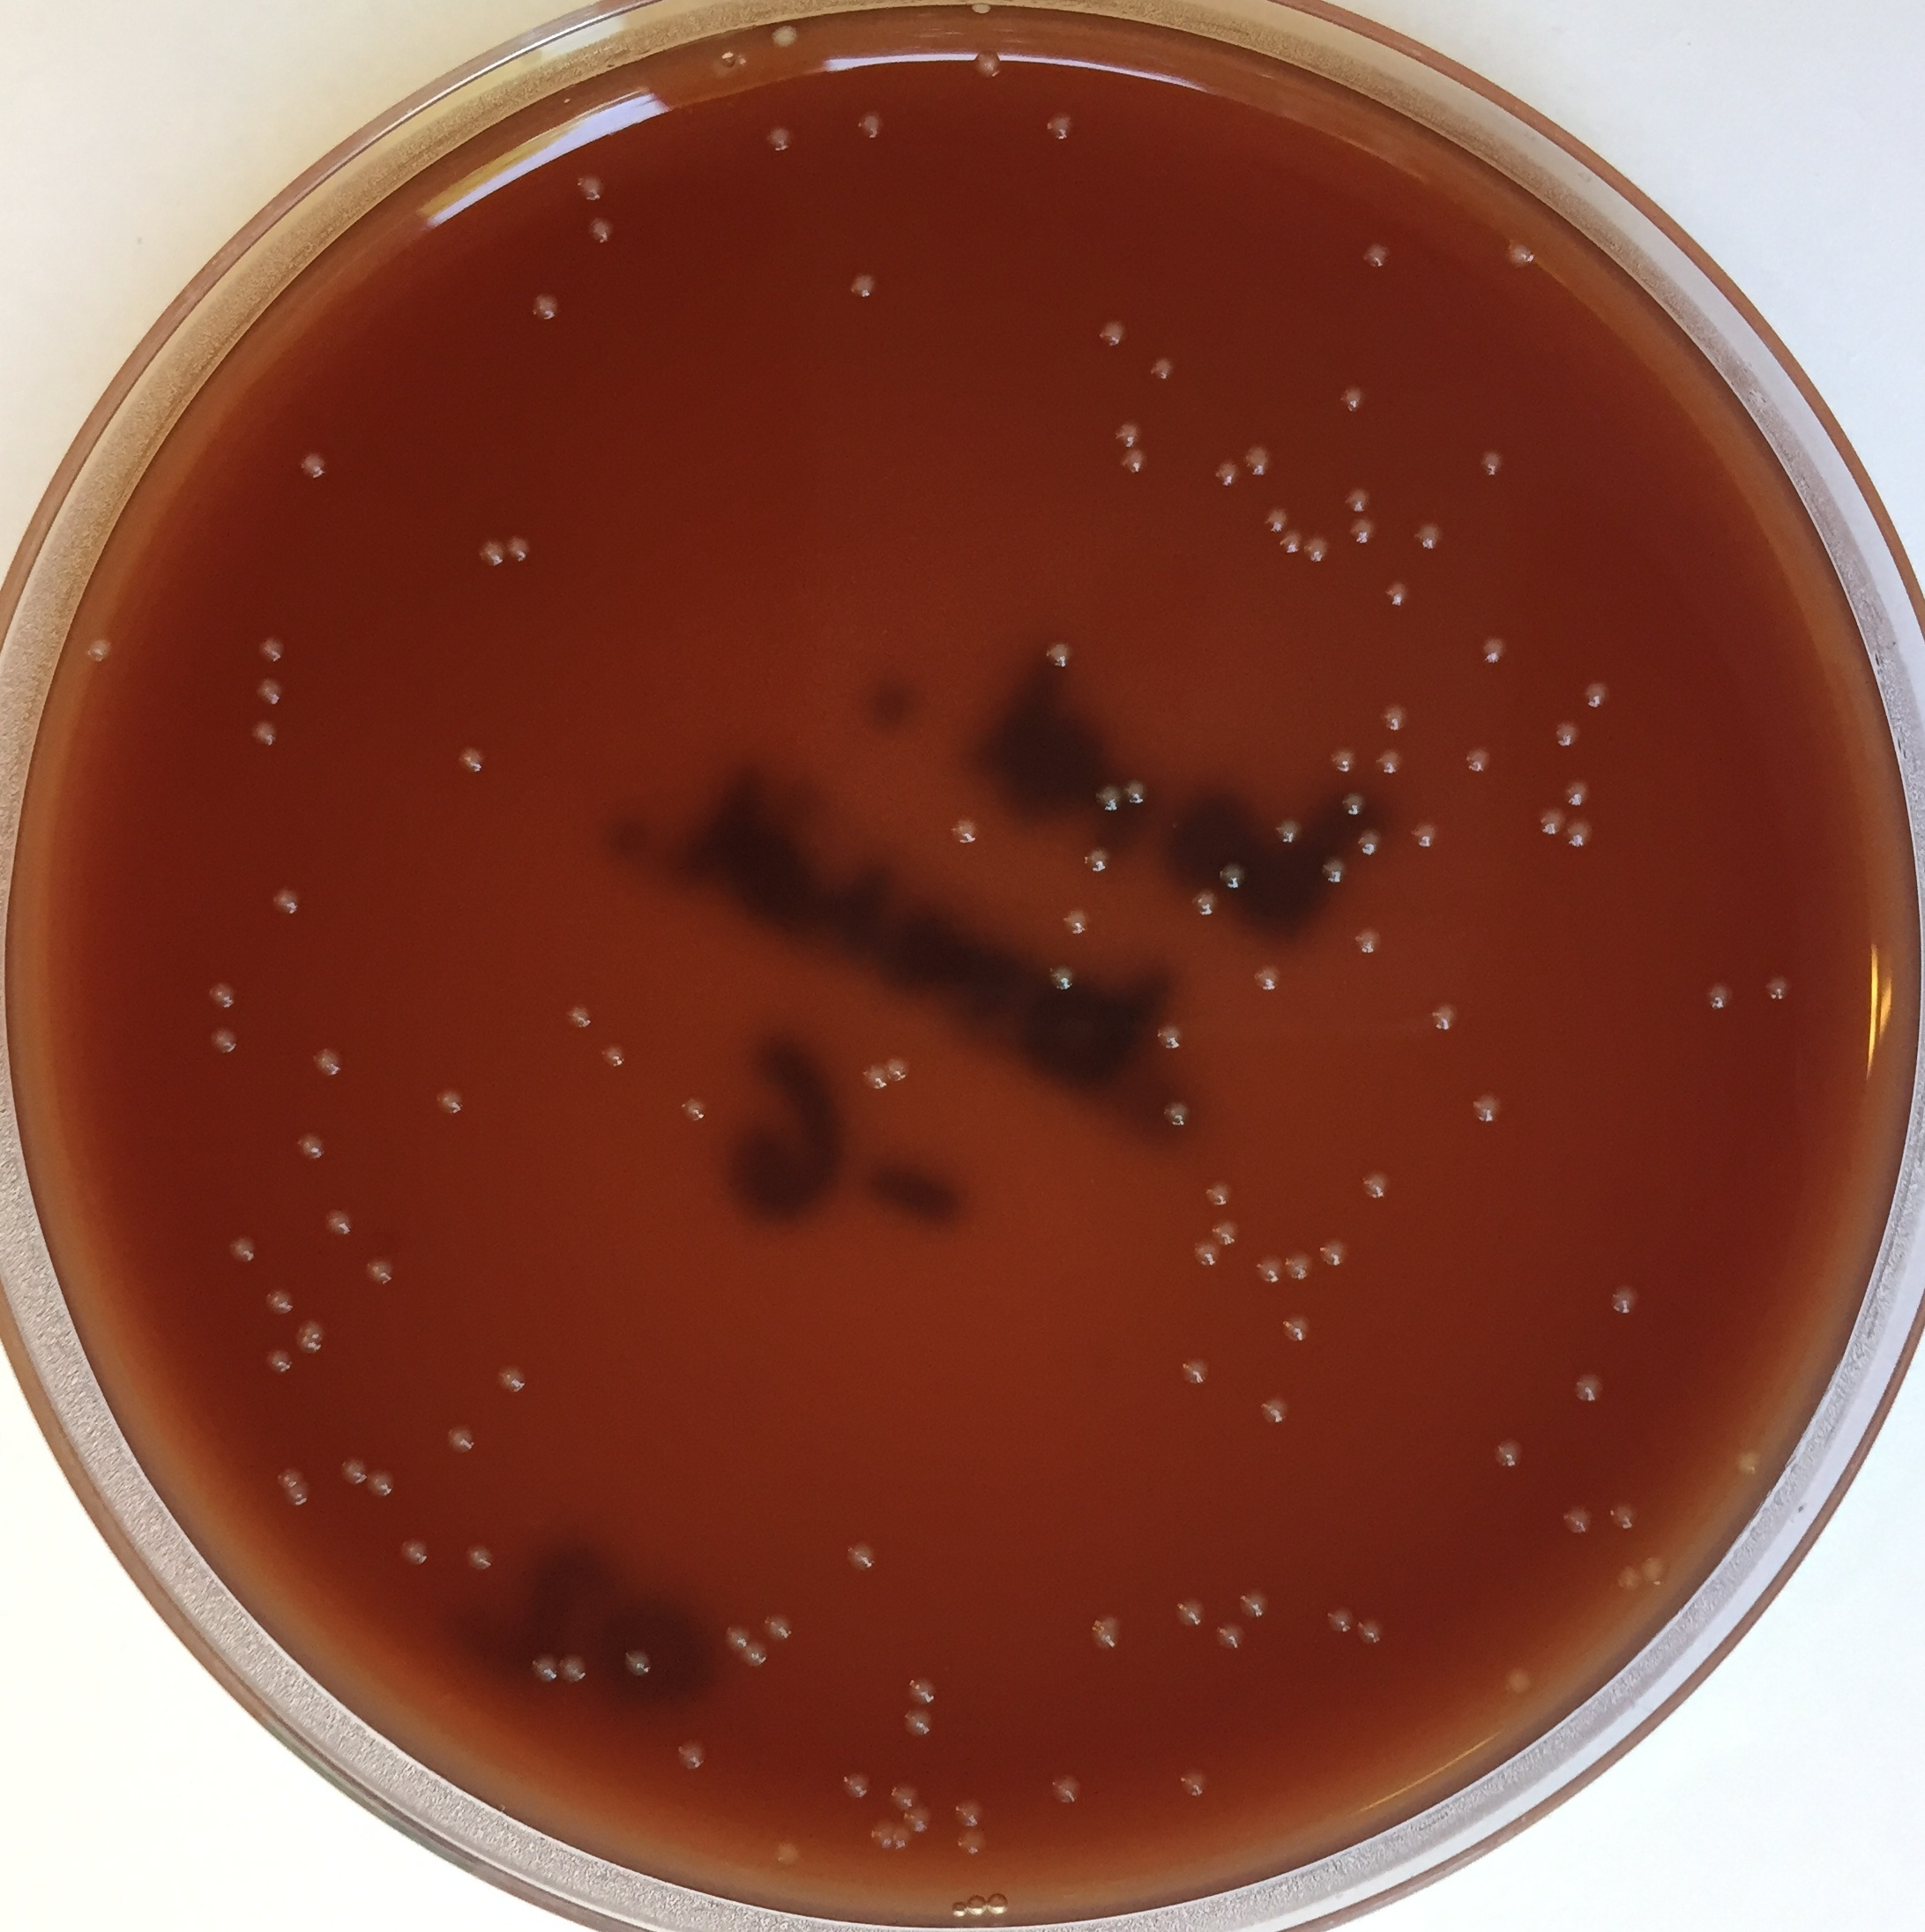sp06: (1486, 229, 1558, 291), (1483, 1650, 1542, 1708), (1477, 1424, 1528, 1488), (1560, 1363, 1618, 1417), (1460, 1086, 1520, 1139), (1204, 1618, 1259, 1671), (940, 807, 991, 862), (1419, 996, 1475, 1045), (1072, 1604, 1121, 1661), (1601, 1482, 1643, 1546), (1236, 432, 1282, 488), (1601, 1271, 1648, 1324), (240, 712, 294, 758), (282, 1125, 337, 1170), (1692, 975, 1738, 1029), (196, 1022, 245, 1072), (1562, 814, 1611, 864), (293, 1042, 353, 1082), (578, 208, 624, 261), (837, 1530, 890, 1576), (1470, 626, 1516, 679), (1324, 377, 1373, 425), (451, 735, 497, 786), (289, 442, 333, 495), (435, 1419, 490, 1461), (1453, 742, 1505, 784), (1375, 568, 1416, 622), (1245, 961, 1290, 1008), (511, 1641, 555, 1690), (1234, 1576, 1285, 1618), (1340, 925, 1394, 964), (1460, 446, 1514, 485), (74, 629, 118, 677), (1354, 226, 1398, 273), (1044, 1765, 1088, 1812), (502, 522, 545, 571), (1368, 744, 1417, 786), (1072, 841, 1123, 881), (1759, 964, 1798, 1017), (358, 1255, 404, 1299), (247, 670, 294, 712), (1086, 314, 1133, 356), (1317, 1595, 1349, 1659), (850, 1051, 887, 1103), (760, 115, 797, 167), (837, 264, 881, 308), (1038, 633, 1082, 677), (1086, 776, 1128, 821), (1313, 1232, 1356, 1278), (1037, 102, 1082, 145), (1253, 1393, 1292, 1442), (1350, 1608, 1389, 1657), (298, 1312, 335, 1363), (665, 1091, 721, 1125), (732, 1646, 788, 1680), (760, 1601, 802, 1645), (1354, 1162, 1396, 1206), (1186, 1237, 1229, 1282), (1398, 816, 1442, 858), (1542, 712, 1585, 756), (365, 1468, 407, 1512), (668, 1729, 710, 1773), (1171, 1345, 1211, 1391), (1056, 903, 1093, 952), (966, 39, 1003, 88), (848, 99, 883, 150), (263, 878, 305, 920), (259, 1278, 301, 1320), (1276, 1304, 1319, 1347), (1153, 1095, 1199, 1133), (1553, 1500, 1594, 1542), (1726, 1435, 1768, 1475), (561, 994, 599, 1038), (615, 1643, 659, 1682), (1408, 513, 1447, 557), (1171, 1761, 1216, 1798), (488, 1363, 541, 1394), (462, 1537, 497, 1585), (1645, 1541, 1680, 1588), (883, 1049, 922, 1091), (1371, 695, 1410, 737), (201, 975, 245, 1012), (1185, 883, 1222, 927), (1553, 777, 1597, 814), (1111, 448, 1155, 485), (765, 14, 800, 60), (1200, 1170, 1239, 1211), (1322, 744, 1361, 784), (767, 1835, 806, 1876), (832, 1766, 873, 1805), (215, 1236, 264, 1267), (1045, 962, 1088, 999), (1208, 1216, 1257, 1248), (1352, 827, 1387, 871), (587, 1042, 638, 1072), (393, 1532, 430, 1572), (1267, 811, 1304, 851), (1169, 1586, 1206, 1627), (1527, 799, 1562, 841), (901, 1671, 943, 1706), (250, 633, 294, 666), (1282, 1248, 1315, 1292), (310, 1209, 356, 1241), (897, 1713, 943, 1745), (432, 1086, 471, 1123), (525, 291, 566, 326), (471, 532, 504, 575), (710, 1618, 754, 1650), (950, 1835, 994, 1867), (259, 1343, 298, 1378), (1148, 1022, 1186, 1058), (1571, 673, 1609, 709), (568, 169, 610, 201), (1343, 520, 1380, 555), (867, 1817, 904, 1853), (335, 1447, 365, 1490), (1125, 769, 1153, 813), (1209, 455, 1237, 499), (562, 1643, 591, 1687), (1218, 851, 1252, 888), (948, 1795, 989, 1824), (885, 1775, 920, 1809), (1253, 1250, 1282, 1290), (1333, 488, 1375, 515), (1142, 353, 1179, 383), (1313, 855, 1352, 883), (1613, 1560, 1641, 1599), (1257, 499, 1290, 531), (901, 1805, 934, 1837), (1273, 522, 1303, 557), (1304, 532, 1331, 569), (1111, 418, 1144, 446), (268, 1465, 303, 1491), (284, 1486, 317, 1511), (1340, 793, 1364, 825)
